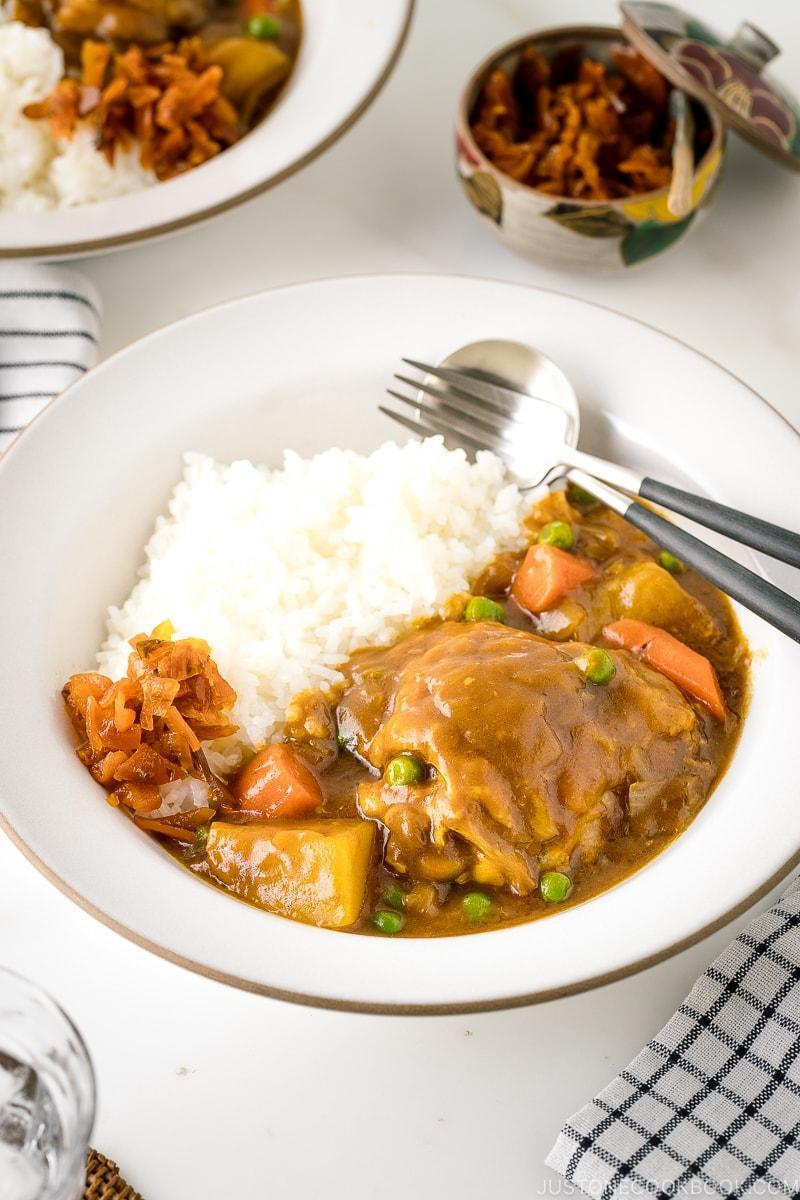chicken: (130, 635, 747, 929)
rice: (117, 432, 460, 709)
